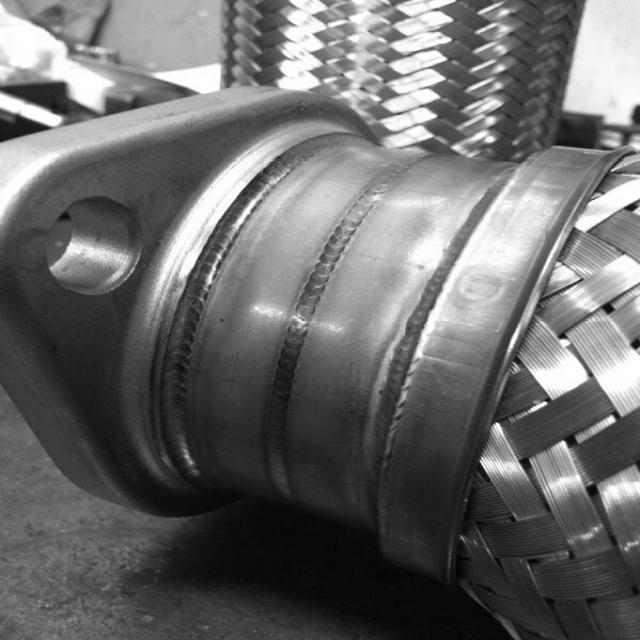Good Welding: (153, 150, 414, 519)
